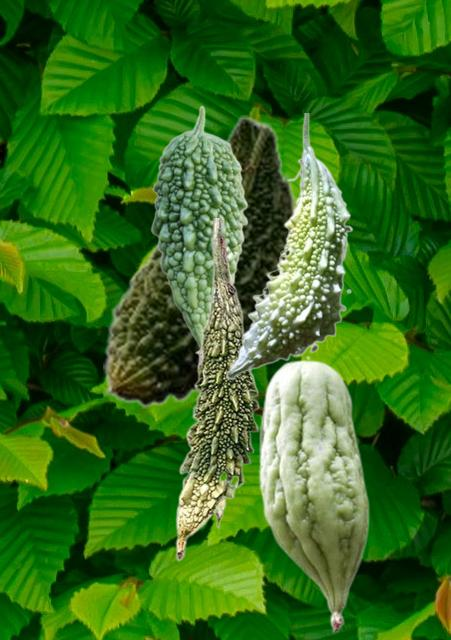ampalaya: (103, 115, 297, 407), (225, 113, 352, 379), (258, 359, 369, 632), (175, 218, 259, 561), (150, 105, 247, 361)
